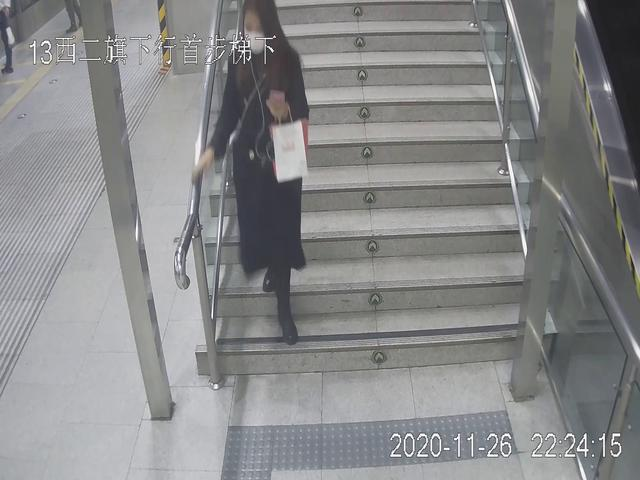person: (186, 1, 310, 347)
